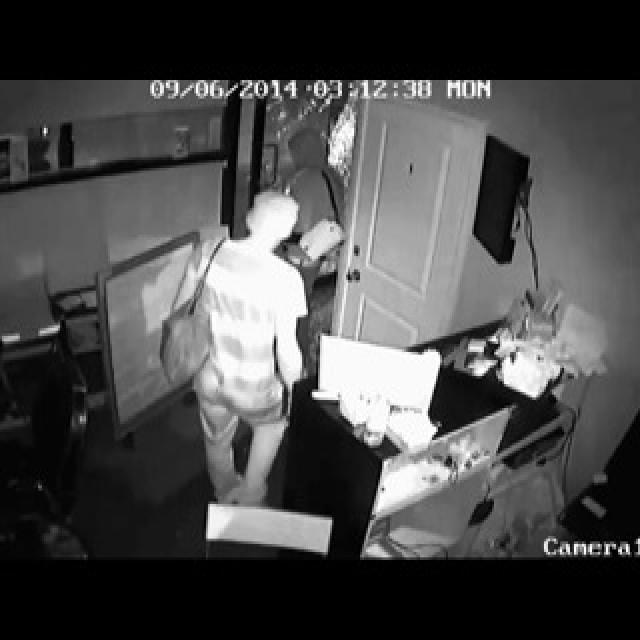thief: (168, 127, 349, 510)
